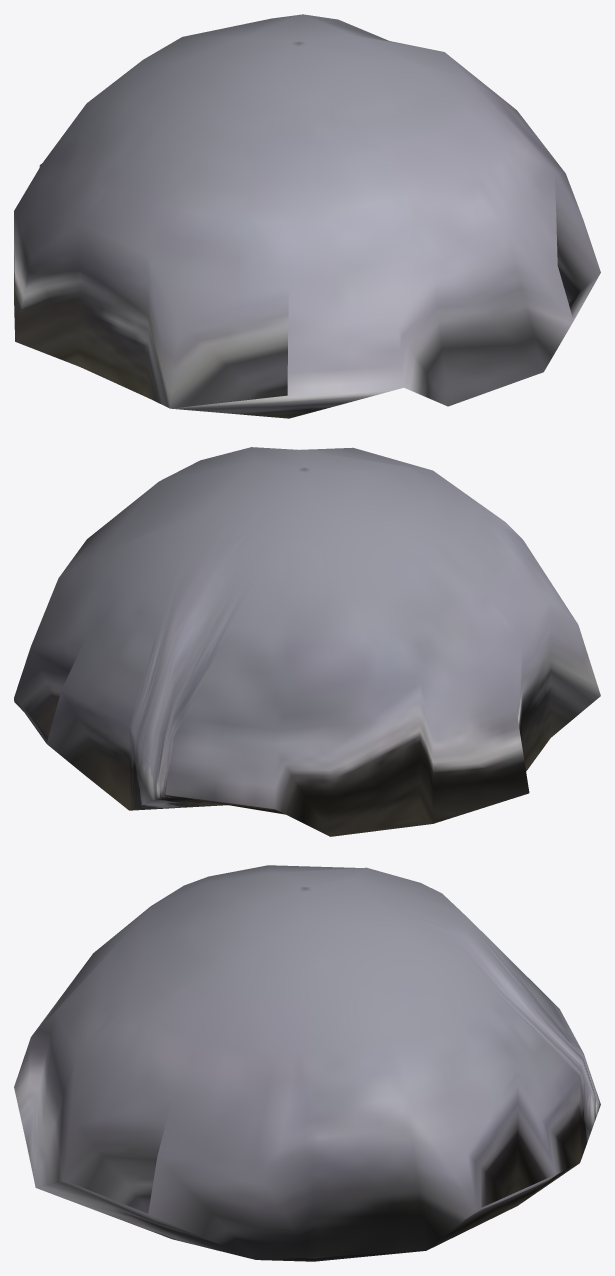
The model's file is panoramic_penthouse.glb.
The picture shows the model from 3 angles, top to bottom: view 1: azimuth 30°, elevation 25°; view 2: azimuth 150°, elevation 25°; view 3: azimuth 270°, elevation 25°; orthographic projection. The views are drawn at different scales.
Parts seen in each view (by area): view 1: body; view 2: body; view 3: body.
Boxes of the visible parts, bbox=[...] form: body: bbox=[14, 14, 600, 418]; body: bbox=[14, 447, 600, 836]; body: bbox=[14, 865, 600, 1261].
Size of the model in its own units: 17.71 by 9.13 by 17.53.
12 materials, 9 textured.
